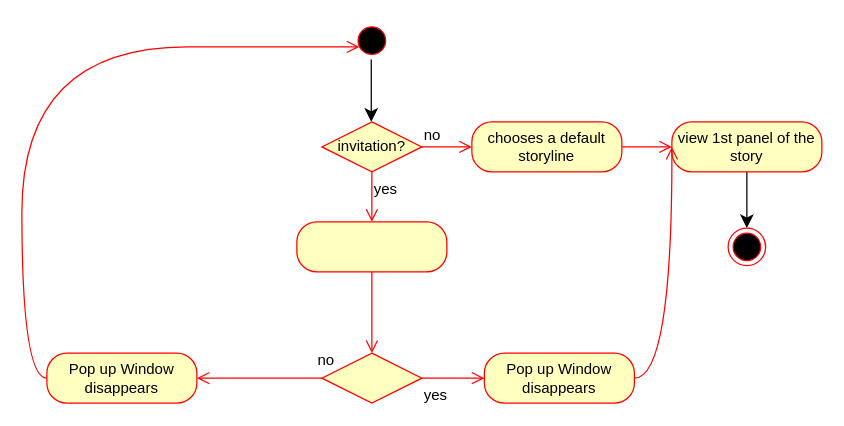
The diagram is 844 pixels wide and 426 high, and some of its shapes have lost their labels. Here are the shapes that lost their labels. From the top down, the box of each, then its label:
(296, 221, 447, 272): Pop up Window appears
(321, 352, 422, 403): accept?
